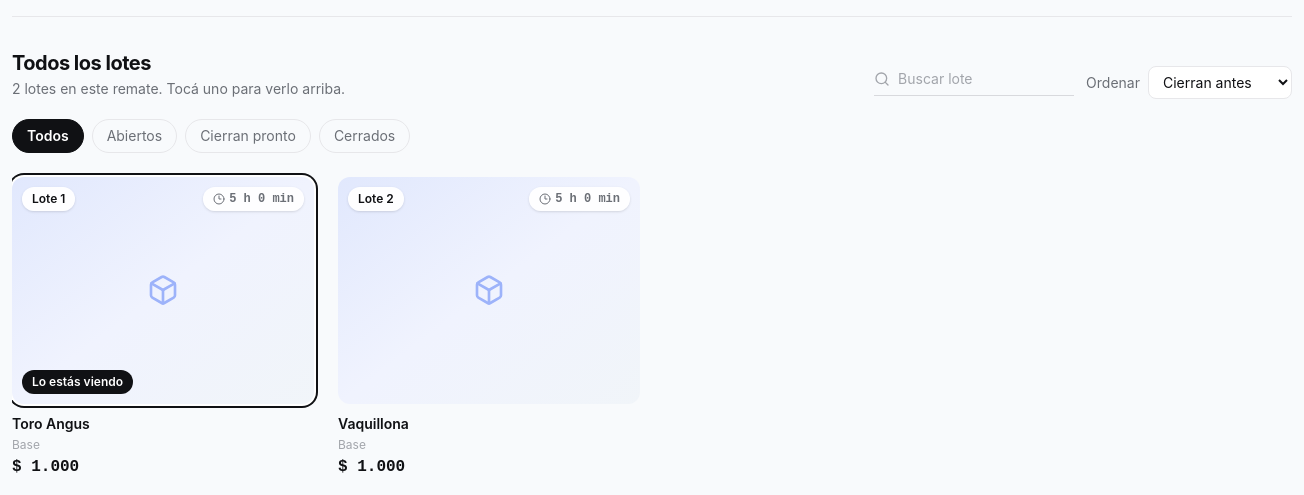
TimedLoteCatalog › el buscador filtra por número, título o rubro
The width and height of the screenshot is (1304, 495).
Type "angus" into the search field named "Buscar lote por número, título o categoría" at (986, 79), box [898, 69, 1074, 89]
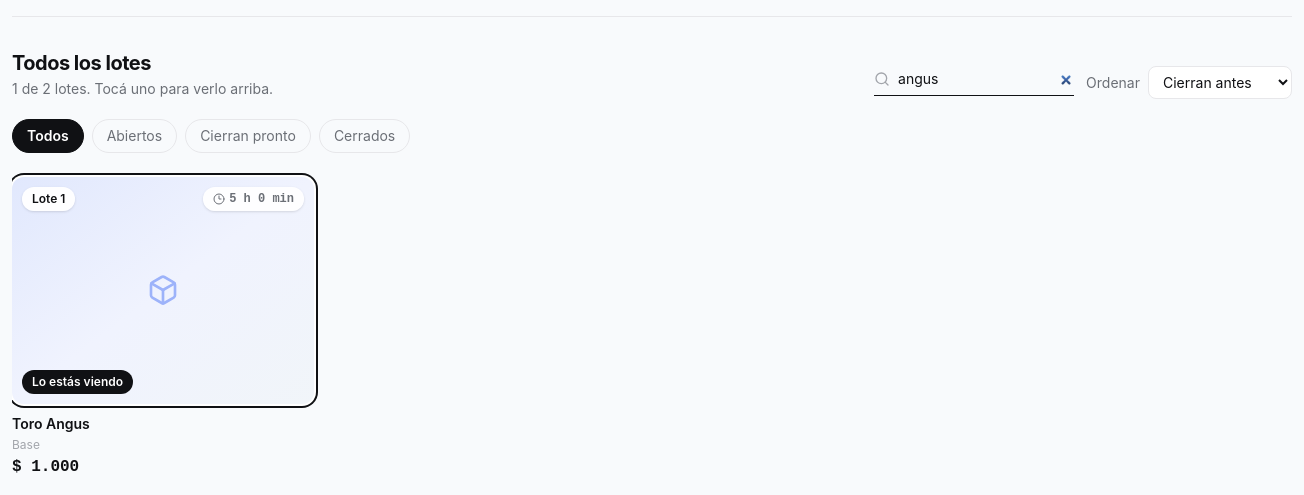
Expected: the number of list items is 1, [12, 177, 314, 479]
Replace the text in the search field named "Buscar lote por número, título o categoría" with "vehículos" at (986, 79), box [898, 69, 1074, 89]
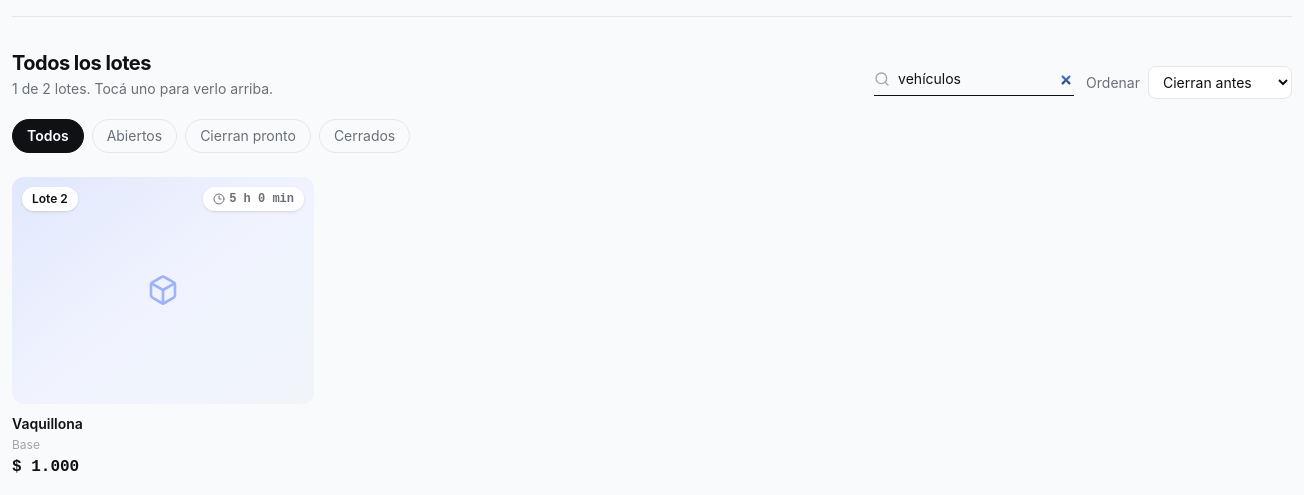
Expected: the button "Lote 2 5 h 0 min Vaquillona Base $ 1.000" is shown, [12, 177, 314, 479]
Expected: the button "Toro Angus" is gone
Replace the text in the search field named "Buscar lote por número, título o categoría" with "zzz" at (986, 79), box [898, 69, 1074, 89]
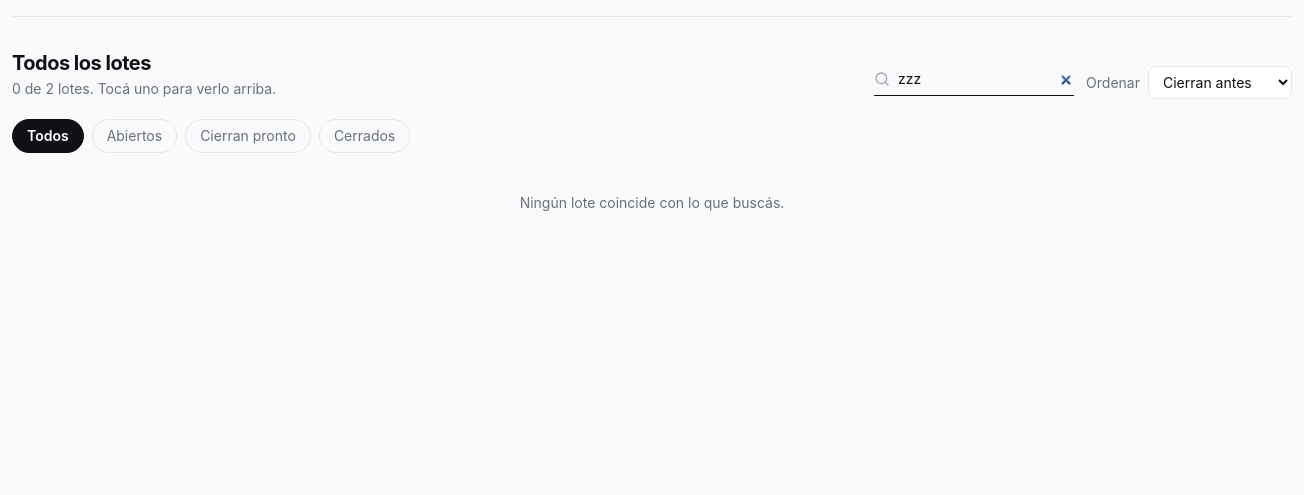
Expected: the text "Ningún lote coincide con lo que buscás." is shown, [520, 194, 784, 211]
